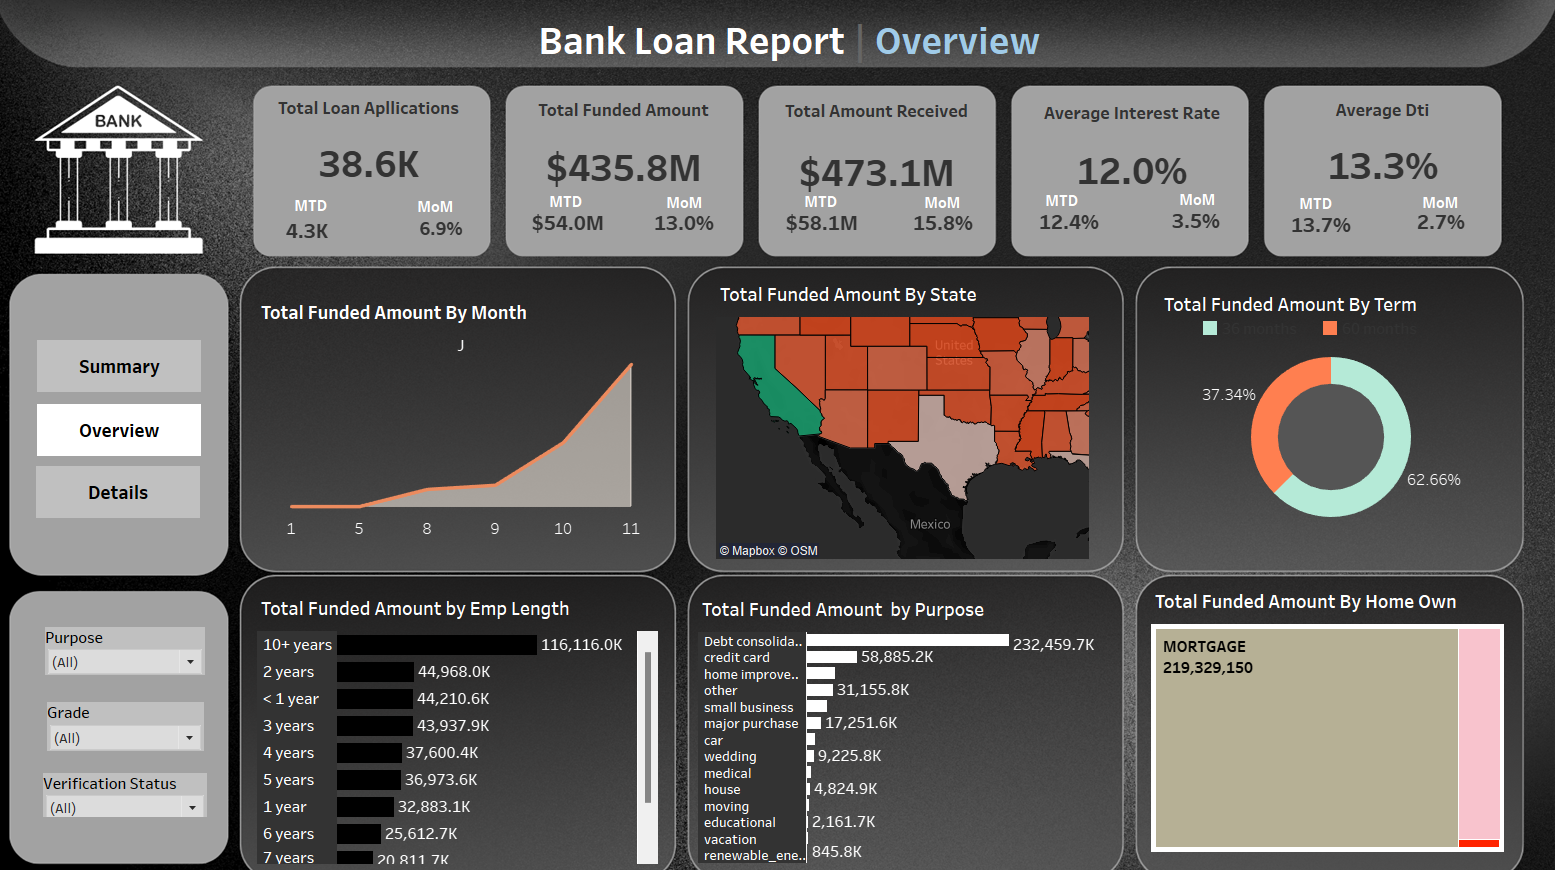

The dashboard page shown, as its layout file describes it:
{"tool":"tableau","page":{"name":"OverView","canvas":[1600,900],"ordinal":1},"visuals":[{"type":"image","param":"C:/Users/Elish/Downloads/Bank Tableau dashboard/3.png","box":[8,8,1584,884]},{"type":"text","box":[558,28,510,50]},{"type":"worksheet","title":"Total Loan applications","mark":"Automatic","box":[285,106,213,101]},{"type":"worksheet","title":"Total Funded Loan","mark":"Automatic","box":[534,108,225,105]},{"type":"worksheet","title":"Average Dti","mark":"Automatic","box":[1295,108,221,102]},{"type":"worksheet","title":"Total amounrt Received","mark":"Automatic","box":[788,109,223,113]},{"type":"worksheet","title":"Average Interest Rate","mark":"Automatic","box":[1044,111,222,106]},{"type":"text","box":[1199,194,100,38]},{"type":"text","box":[686,197,100,38]},{"type":"text","box":[944,197,100,38]},{"type":"text","box":[1442,197,100,38]},{"type":"text","box":[824,199,100,32]},{"type":"text","box":[1065,199,100,30]},{"type":"text","box":[569,200,100,30]},{"type":"text","box":[437,201,100,38]},{"type":"text","box":[1319,202,100,30]},{"type":"text","box":[314,204,100,30]},{"type":"worksheet","title":"MOM Average Interest Rate","mark":"Automatic","box":[1176,207,86,53]},{"type":"worksheet","title":"MOM Total Funded Amount","mark":"Automatic","box":[660,208,93,56]},{"type":"worksheet","title":"MOM Total Amount Received ","mark":"Automatic","box":[922,208,88,55]},{"type":"worksheet","title":"Mtd Interest Rate","mark":"Automatic","box":[1042,209,100,52]},{"type":"worksheet","title":"MOM Average Dti","mark":"Automatic","box":[1413,209,101,52]},{"type":"worksheet","title":"MTD Total Funded Amount","mark":"Automatic","box":[540,211,102,50]},{"type":"worksheet","title":"MTD Total Amount Received","mark":"Automatic","box":[803,214,84,44]},{"type":"worksheet","title":"MTD Average Dti ","mark":"Automatic","box":[1294,214,100,47]},{"type":"worksheet","title":"MTD Total Loan Applications","mark":"Automatic","box":[290,220,79,48]},{"type":"worksheet","title":"MOM loan Applications","mark":"Automatic","box":[417,221,93,41]},{"type":"worksheet","title":"State","mark":"Multipolygon","box":[739,291,373,282]},{"type":"worksheet","title":"Term","mark":"Pie","rows":["Calculation_3017693266128084993","Calculation_3017693266128084993"],"box":[1183,301,342,260]},{"type":"worksheet","title":"Month","mark":"Area","rows":["Calculation_682576859326103558","Calculation_682576859326103558"],"cols":["issue_date","issue_date"],"box":[280,309,408,245]},{"type":"legend","title":"Term","param":"[federated.03zki4g1ypc76a12h7jzq18jh7zt].[none:term:nk]","box":[1223,332,281,28]},{"type":"dashboard-object","box":[60,354,164,52]},{"type":"dashboard-object","box":[60,418,164,52]},{"type":"dashboard-object","box":[59,480,164,52]},{"type":"worksheet","title":"Home Ownership","mark":"Automatic","box":[1174,598,353,281]},{"type":"worksheet","title":"Emp Length","mark":"Automatic","rows":["emp_length"],"cols":["Calculation_682576859326103558"],"box":[280,605,401,273]},{"type":"worksheet","title":"Purpose","mark":"Automatic","rows":["purpose"],"cols":["Calculation_682576859326103558"],"box":[721,606,411,271]},{"type":"filter","title":"Average Dti","param":"[federated.03zki4g1ypc76a12h7jzq18jh7zt].[none:purpose:nk]","box":[68,641,160,48]},{"type":"filter","title":"Average Dti","param":"[federated.03zki4g1ypc76a12h7jzq18jh7zt].[none:grade:nk]","box":[70,716,157,49]},{"type":"filter","title":"Average Dti","param":"[federated.03zki4g1ypc76a12h7jzq18jh7zt].[none:verification_status:nk]","box":[66,787,164,44]}]}

Visuals, with their boxes in screenshot pixels (x1, y1, x2, y2), scaled from the page's 1600x900 canvas onto the 1558x870 screenshot:
image: detection(8, 8, 1550, 862)
text: detection(543, 27, 1040, 75)
"Total Loan applications" worksheet: detection(278, 102, 485, 200)
"Total Funded Loan" worksheet: detection(520, 104, 739, 206)
"Average Dti" worksheet: detection(1261, 104, 1476, 203)
"Total amounrt Received" worksheet: detection(767, 105, 984, 215)
"Average Interest Rate" worksheet: detection(1017, 107, 1233, 210)
text: detection(1168, 188, 1265, 224)
text: detection(668, 190, 765, 227)
text: detection(919, 190, 1017, 227)
text: detection(1404, 190, 1502, 227)
text: detection(802, 192, 900, 223)
text: detection(1037, 192, 1134, 221)
text: detection(554, 193, 651, 222)
text: detection(426, 194, 523, 231)
text: detection(1284, 195, 1382, 224)
text: detection(306, 197, 403, 226)
"MOM Average Interest Rate" worksheet: detection(1145, 200, 1229, 251)
"MOM Total Funded Amount" worksheet: detection(643, 201, 733, 255)
"MOM Total Amount Received " worksheet: detection(898, 201, 983, 254)
"Mtd Interest Rate" worksheet: detection(1015, 202, 1112, 252)
"MOM Average Dti" worksheet: detection(1376, 202, 1474, 252)
"MTD Total Funded Amount" worksheet: detection(526, 204, 625, 252)
"MTD Total Amount Received" worksheet: detection(782, 207, 864, 249)
"MTD Average Dti " worksheet: detection(1260, 207, 1357, 252)
"MTD Total Loan Applications" worksheet: detection(282, 213, 359, 259)
"MOM loan Applications" worksheet: detection(406, 214, 497, 253)
"State" worksheet (Multipolygon marks): detection(720, 281, 1083, 554)
"Term" worksheet (Pie marks): detection(1152, 291, 1485, 542)
"Month" worksheet (Area marks): detection(273, 299, 670, 536)
"Term" legend: detection(1191, 321, 1465, 348)
dashboard-object: detection(58, 342, 218, 392)
dashboard-object: detection(58, 404, 218, 454)
dashboard-object: detection(57, 464, 217, 514)
"Home Ownership" worksheet: detection(1143, 578, 1487, 850)
"Emp Length" worksheet: detection(273, 585, 663, 849)
"Purpose" worksheet: detection(702, 586, 1102, 848)
"Average Dti" filter: detection(66, 620, 222, 666)
"Average Dti" filter: detection(68, 692, 221, 740)
"Average Dti" filter: detection(64, 761, 224, 803)
